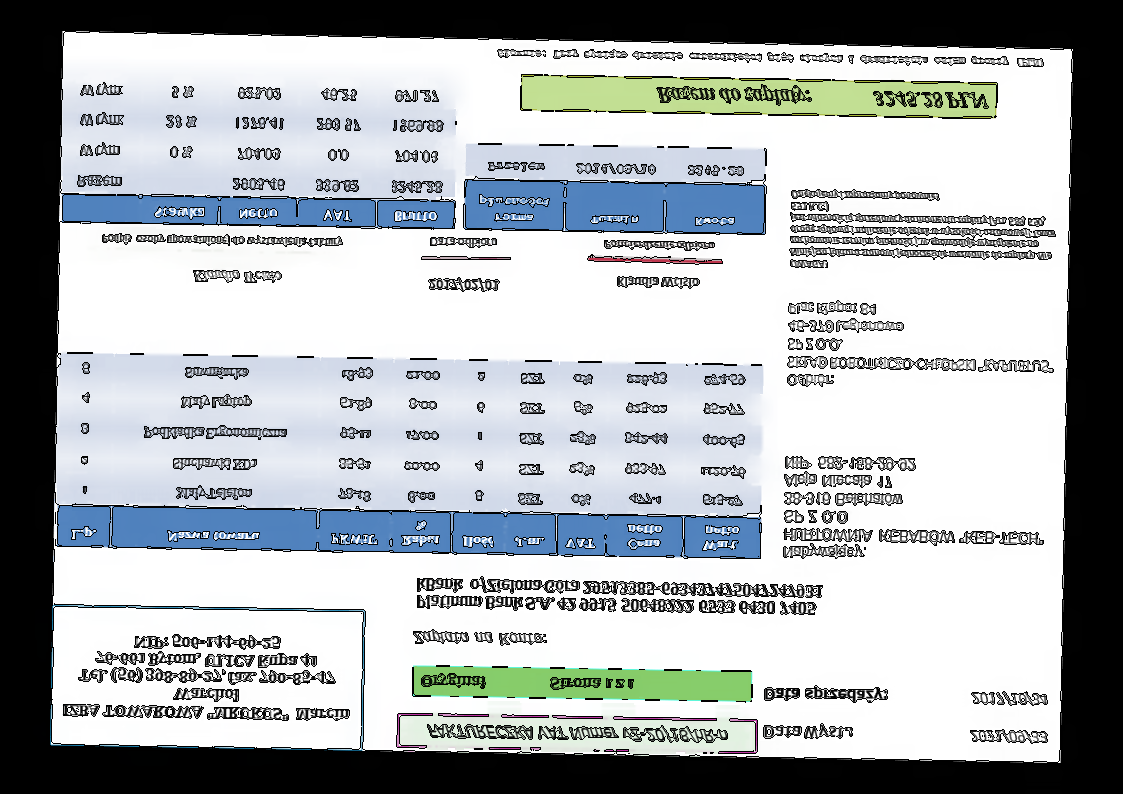Table: (55, 350, 765, 561), (60, 70, 457, 230), (462, 141, 768, 237)
TextBox: (781, 453, 1049, 566), (59, 629, 352, 725), (785, 297, 1058, 393), (786, 186, 1060, 276), (412, 575, 824, 618), (494, 47, 1047, 70), (654, 81, 990, 112), (424, 720, 732, 747), (418, 671, 636, 696), (100, 231, 346, 250), (411, 627, 550, 651), (760, 682, 891, 707), (762, 721, 856, 743), (189, 267, 283, 288), (601, 237, 717, 254), (967, 725, 1049, 748), (969, 689, 1049, 710), (425, 275, 502, 294), (613, 274, 700, 290), (427, 235, 497, 250)
